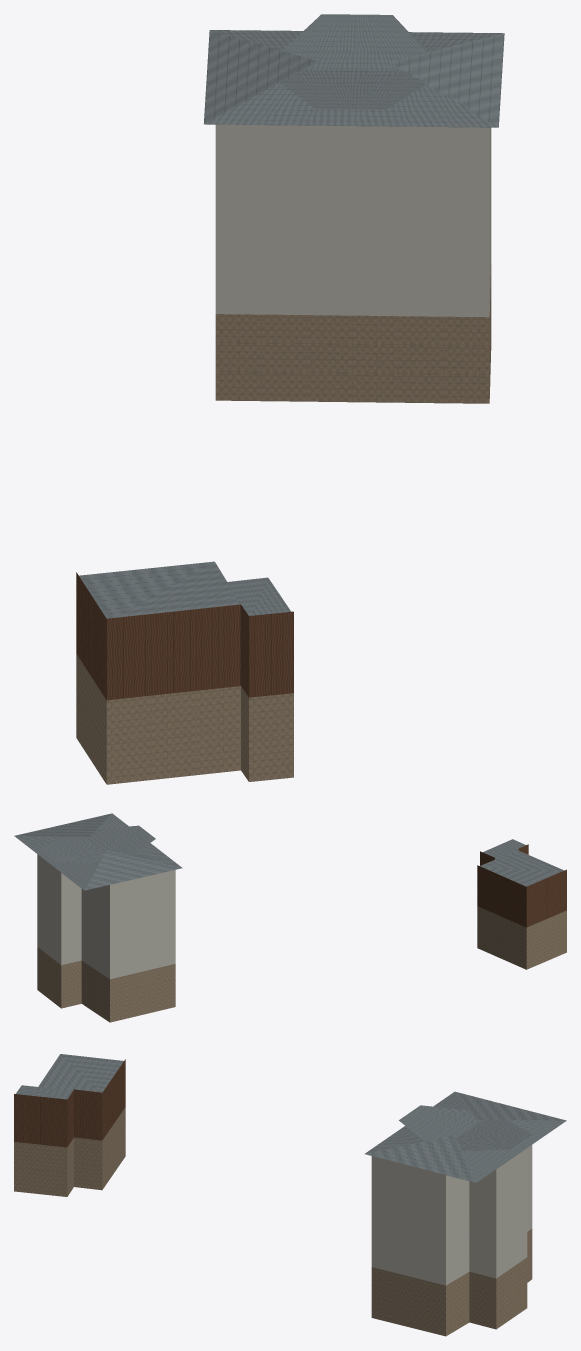
Rendered from bld_c10_9_505.gltf.
3 views of the same model, one above another, from view 1: azimuth 30°, elevation 25°; view 2: azimuth 150°, elevation 25°; view 3: azimuth 270°, elevation 25° (orthographic). The views are drawn at different scales.
Visible parts, largest first — view 1: bld_c10_9_505; view 2: bld_c10_9_505; view 3: bld_c10_9_505.
Part boxes in pixels (bbox=[...]): bld_c10_9_505: bbox=[76, 14, 504, 784]; bld_c10_9_505: bbox=[14, 813, 566, 1022]; bld_c10_9_505: bbox=[14, 1054, 566, 1336].
Size of the model in its own units: 46.35 by 19.2 by 50.23.
5 materials, 5 textured.
